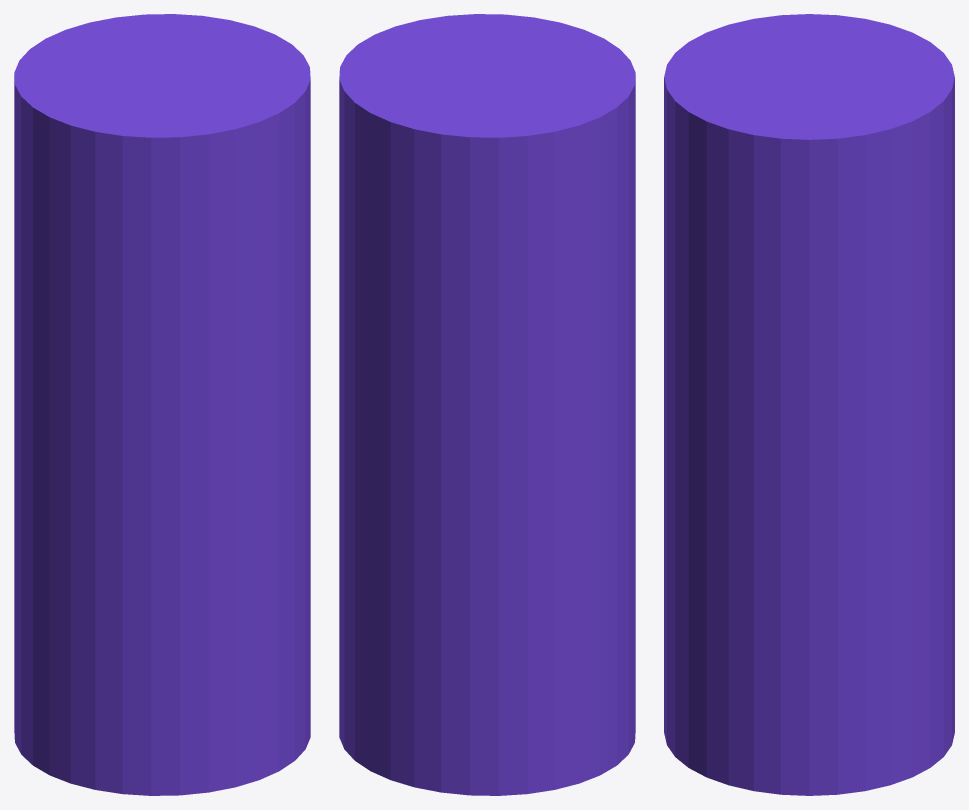
Rendered from enemy.fbx.
The picture shows the model from 3 angles, left to right: view 1: azimuth 30°, elevation 25°; view 2: azimuth 150°, elevation 25°; view 3: azimuth 270°, elevation 25°; orthographic projection.
Parts seen in each view (by area): view 1: 円柱; view 2: 円柱; view 3: 円柱.
Part boxes in pixels (x1=…): 円柱: x1=14, y1=14, x2=310, y2=795; 円柱: x1=339, y1=14, x2=635, y2=795; 円柱: x1=664, y1=14, x2=954, y2=795.
Size of the model in its own units: 198 by 481 by 193.
